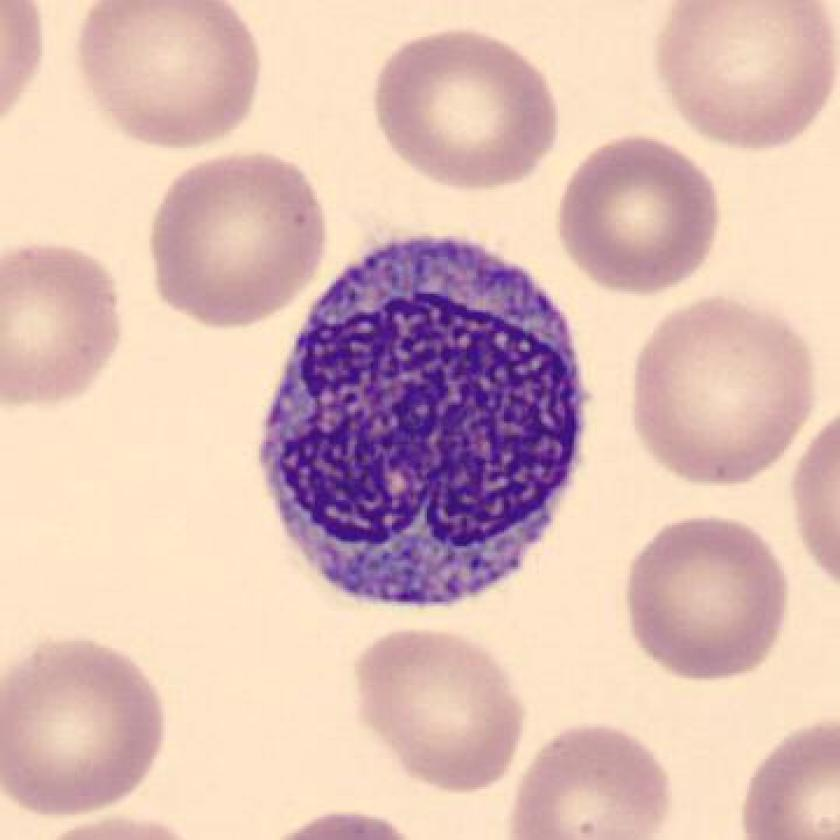monocyte: (237, 219, 617, 633)
